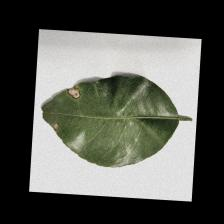canker: (41, 74, 120, 113)
